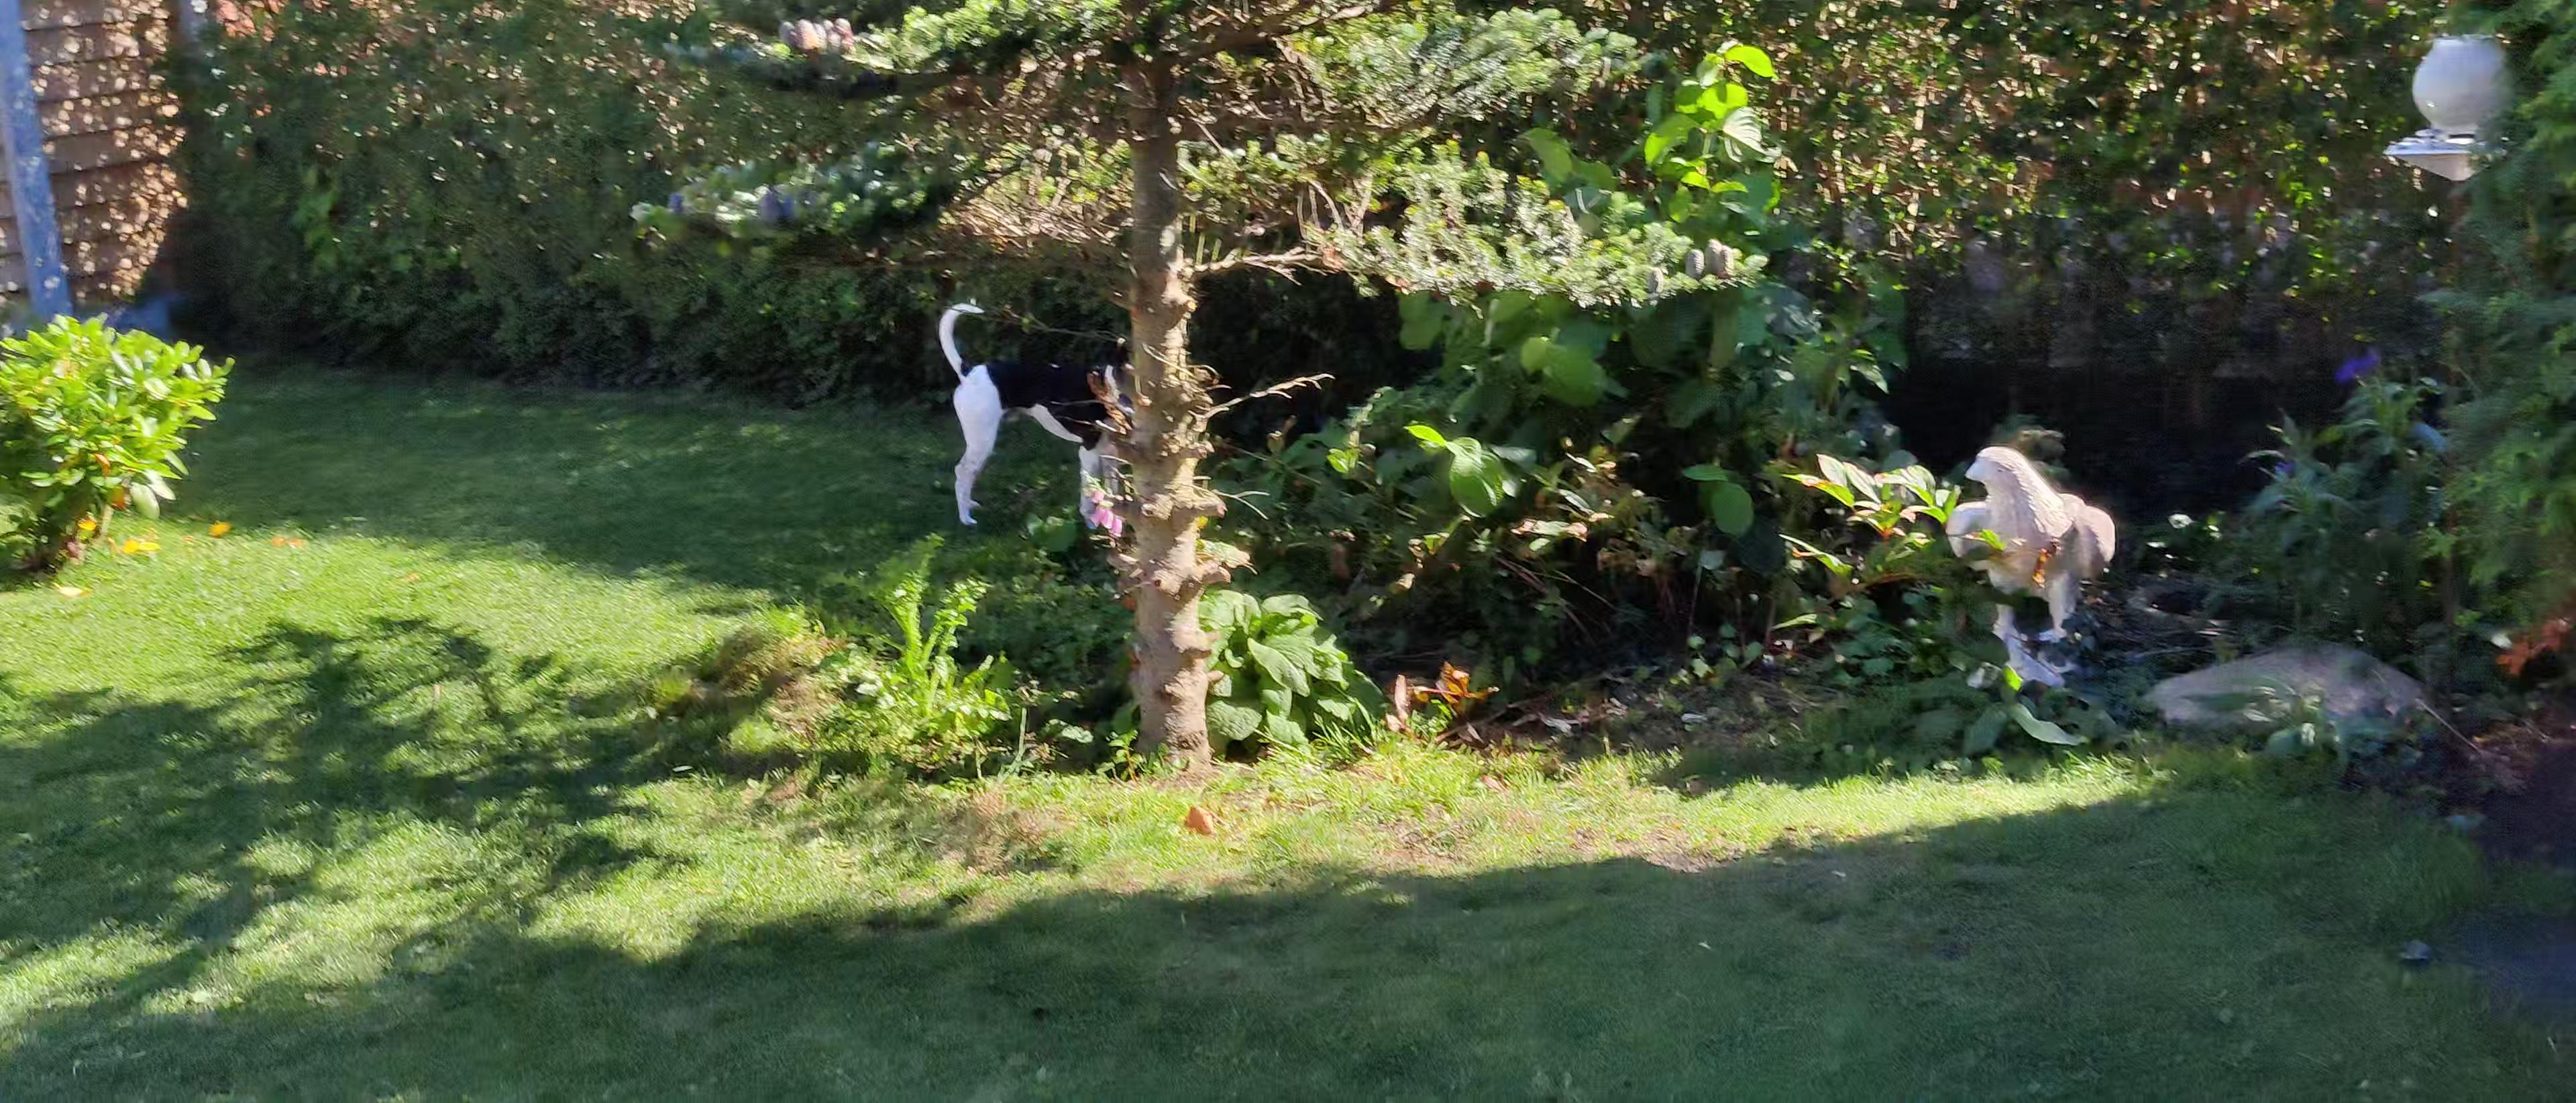Dog: (930, 296, 1138, 541)
